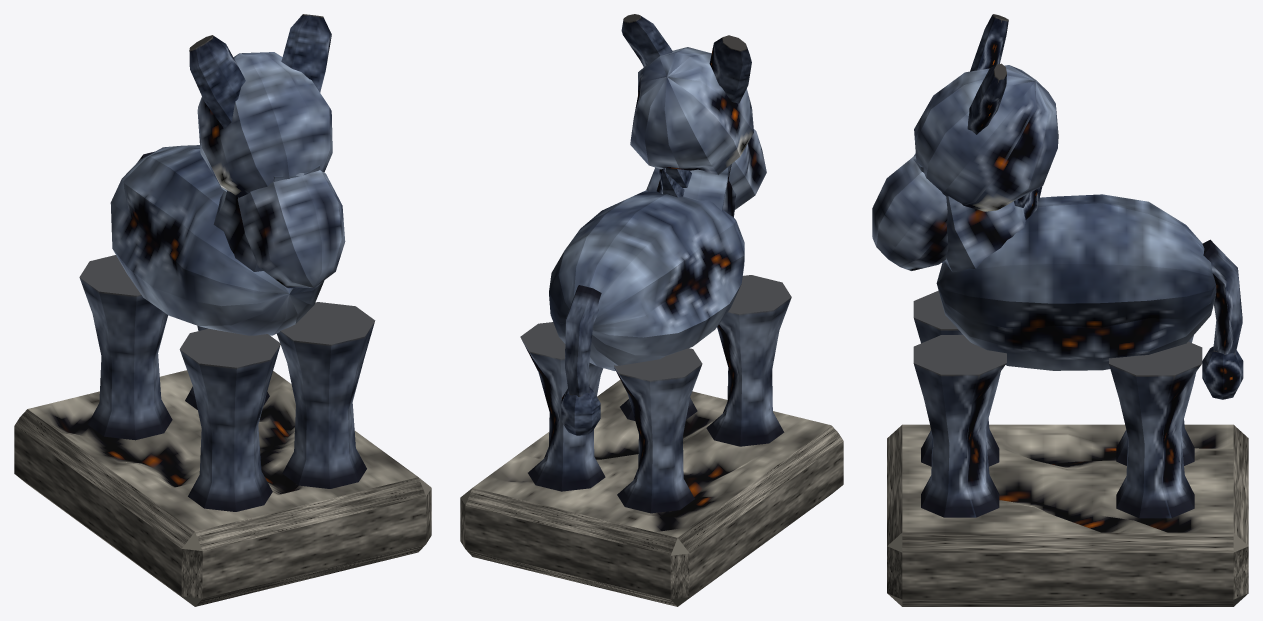
File: stone_donkey.gltf
3 renders of one model, left to right at view 1: azimuth 30°, elevation 25°; view 2: azimuth 150°, elevation 25°; view 3: azimuth 270°, elevation 25°, orthographic. The views are drawn at different scales.
Parts seen in each view (by area): view 1: StoneDonkey; view 2: StoneDonkey; view 3: StoneDonkey.
Boxes of the visible parts, x1,y1,x2,y2 form: StoneDonkey: (14,14,431,606); StoneDonkey: (460,14,843,606); StoneDonkey: (872,14,1248,606).
Bounding box in the file's own units: 84.8 × 168 × 112.
1 material, 1 textured.
